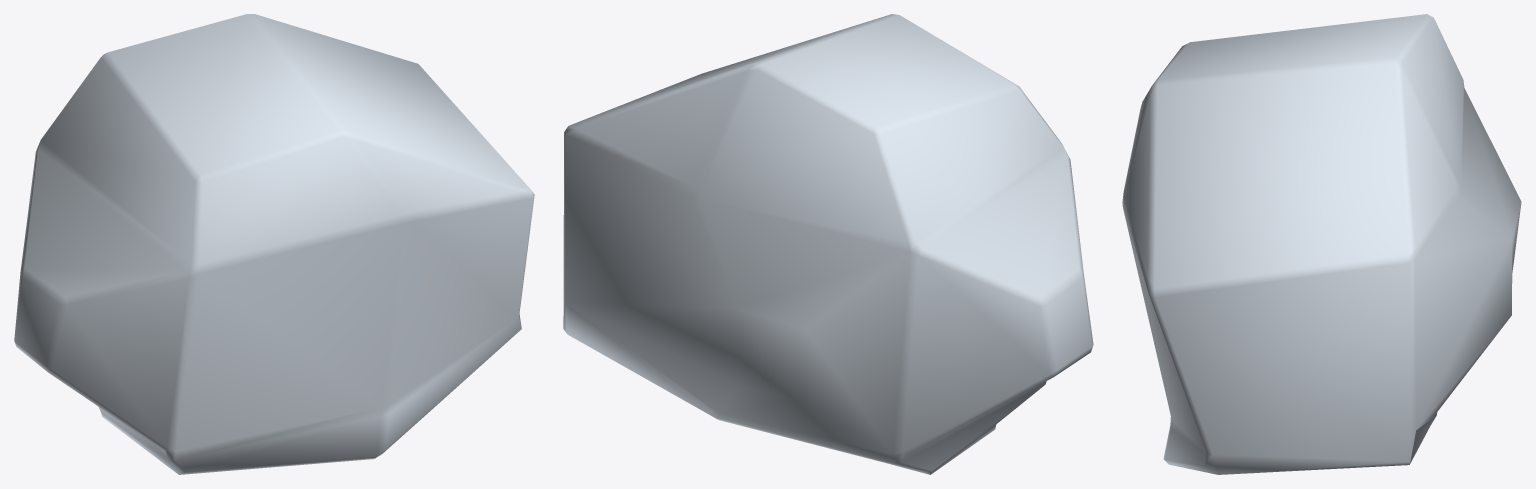
The model's file is Rock3.fbx.
3 views of the same model, side by side, from view 1: azimuth 30°, elevation 25°; view 2: azimuth 150°, elevation 25°; view 3: azimuth 270°, elevation 25° (orthographic). The views are drawn at different scales.
Parts seen in each view (by area): view 1: Rock3; view 2: Rock3; view 3: Rock3.
Boxes of the visible parts, x1,y1,x2,y2 form: Rock3: (14, 14, 534, 474); Rock3: (563, 14, 1093, 474); Rock3: (1122, 14, 1521, 474).
Bounding box in the file's own units: 425 × 339 × 311.
